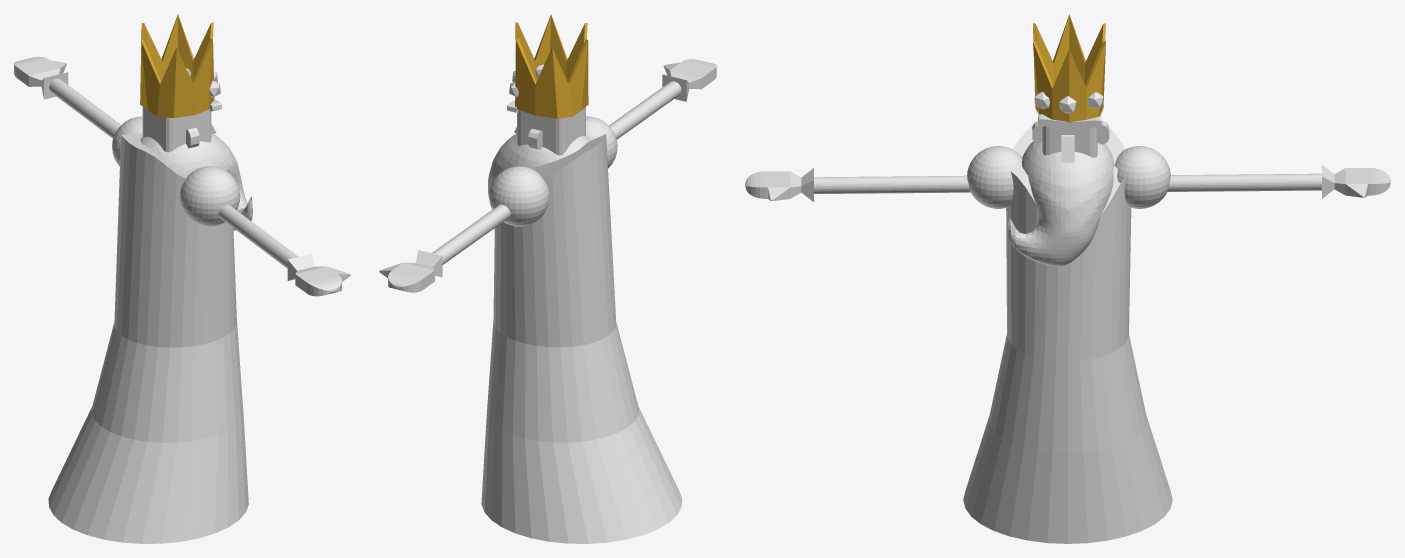
File: king.fbx
3 views of the same model, side by side, from view 1: azimuth 30°, elevation 25°; view 2: azimuth 150°, elevation 25°; view 3: azimuth 270°, elevation 25° (orthographic). The views are drawn at different scales.
Visible parts, largest first — view 1: Cylinder, Crown, Sphere.001, Cube.006, Cylinder.001, Sphere, Cube; view 2: Cylinder, Crown, Sphere.001, Cube.006, Cylinder.001, Cube, Sphere; view 3: Cylinder, Sphere, Cylinder.001, Sphere.001, Crown, Cube.006, Cube.
Part boxes in pixels (box(x1,y1,x2,y2)): Cylinder: box(48, 133, 248, 543); Crown: box(140, 14, 214, 117); Sphere.001: box(112, 116, 240, 226); Cube.006: box(14, 56, 350, 296); Cylinder.001: box(49, 78, 298, 268); Sphere: box(140, 134, 252, 230); Cube: box(142, 107, 211, 152); Cylinder: box(481, 134, 682, 543); Crown: box(515, 14, 588, 118); Sphere.001: box(489, 116, 617, 226); Cube.006: box(379, 59, 716, 292); Cylinder.001: box(432, 81, 681, 264); Cube: box(517, 107, 585, 155); Sphere: box(488, 133, 591, 198); Cylinder: box(963, 125, 1172, 543); Sphere: box(1007, 141, 1114, 266); Cylinder.001: box(814, 173, 1321, 193); Sphere.001: box(967, 146, 1170, 208); Crown: box(1033, 14, 1105, 122); Cube.006: box(745, 164, 1390, 201); Cube: box(1042, 122, 1097, 157).
Size of the model in its own units: 429 by 1071 by 1297.
